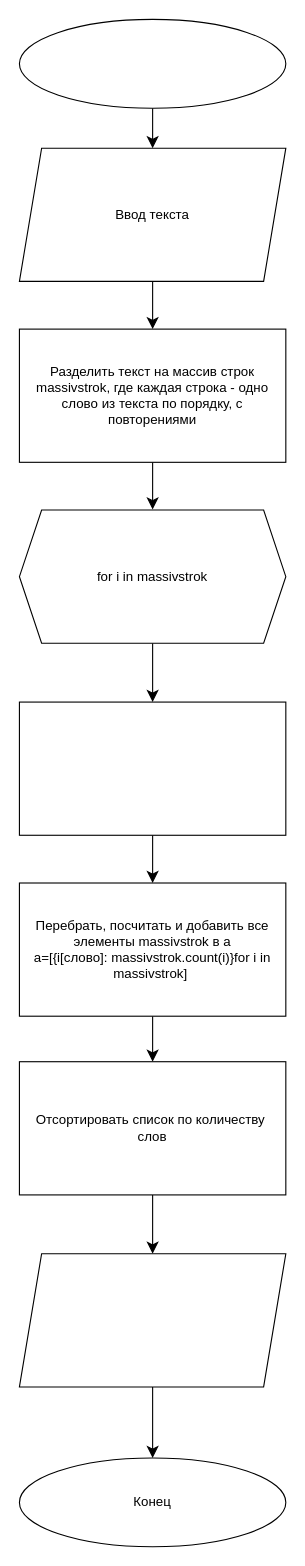
Some shapes in this 305 by 1566 pixel diagram are drawn without their labels. The shapes that lost their labels are listed below. From the top down, each one's centre as x and y in pixels, then its label:
At pixel 152 63: "Начало".
At pixel 152 768: "создать список словарей, ключ - слово, значение - количетво слова в тексте a={}".
At pixel 152 1320: "Вывести топ-5 самых частых слов".
